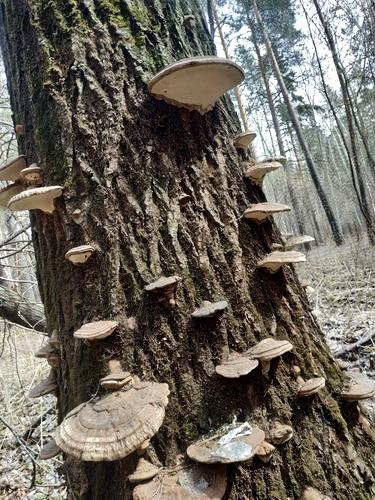Ganoderma - Fruit Body: (42, 399, 171, 469), (148, 52, 250, 114), (188, 420, 271, 463), (215, 336, 293, 377), (7, 185, 61, 217), (240, 157, 288, 189), (257, 251, 309, 280), (0, 154, 48, 179), (241, 200, 288, 225), (62, 242, 100, 267), (189, 298, 233, 319), (342, 376, 375, 404), (72, 320, 118, 340), (141, 274, 186, 291), (35, 337, 63, 362), (30, 375, 57, 399), (298, 377, 326, 398), (284, 234, 318, 248), (235, 127, 255, 150)
